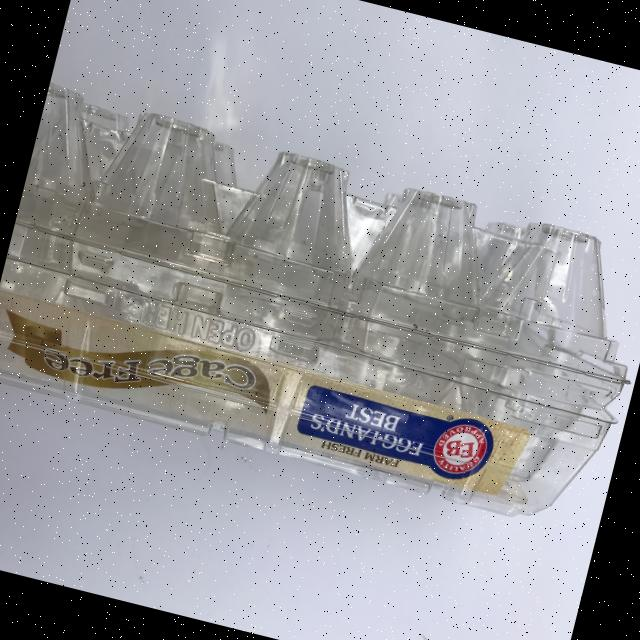plastic: (0, 83, 640, 536)
